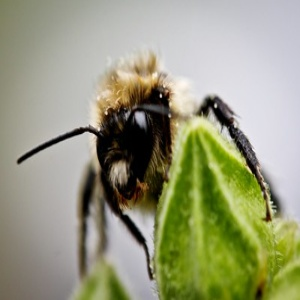bee: (85, 51, 175, 281)
